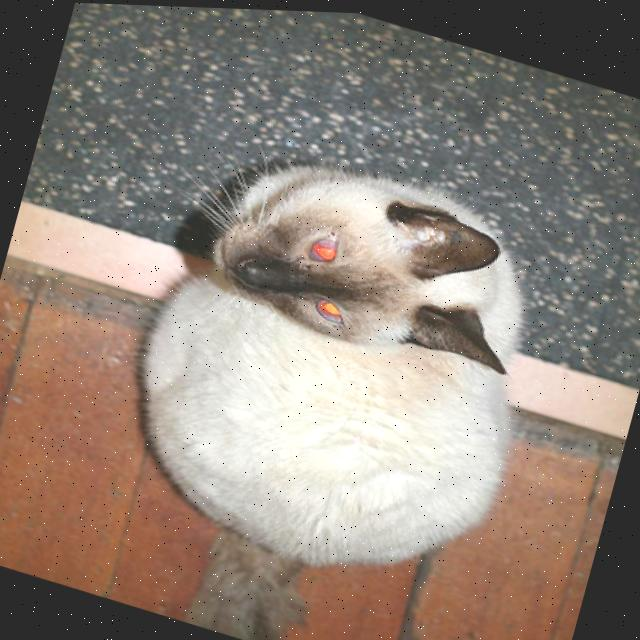Siamese: (95, 109, 574, 614)
